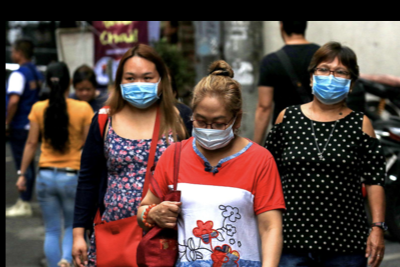with_mask: (191, 110, 236, 150), (120, 67, 162, 107), (312, 62, 352, 104)
without_mask: (74, 84, 94, 101)
